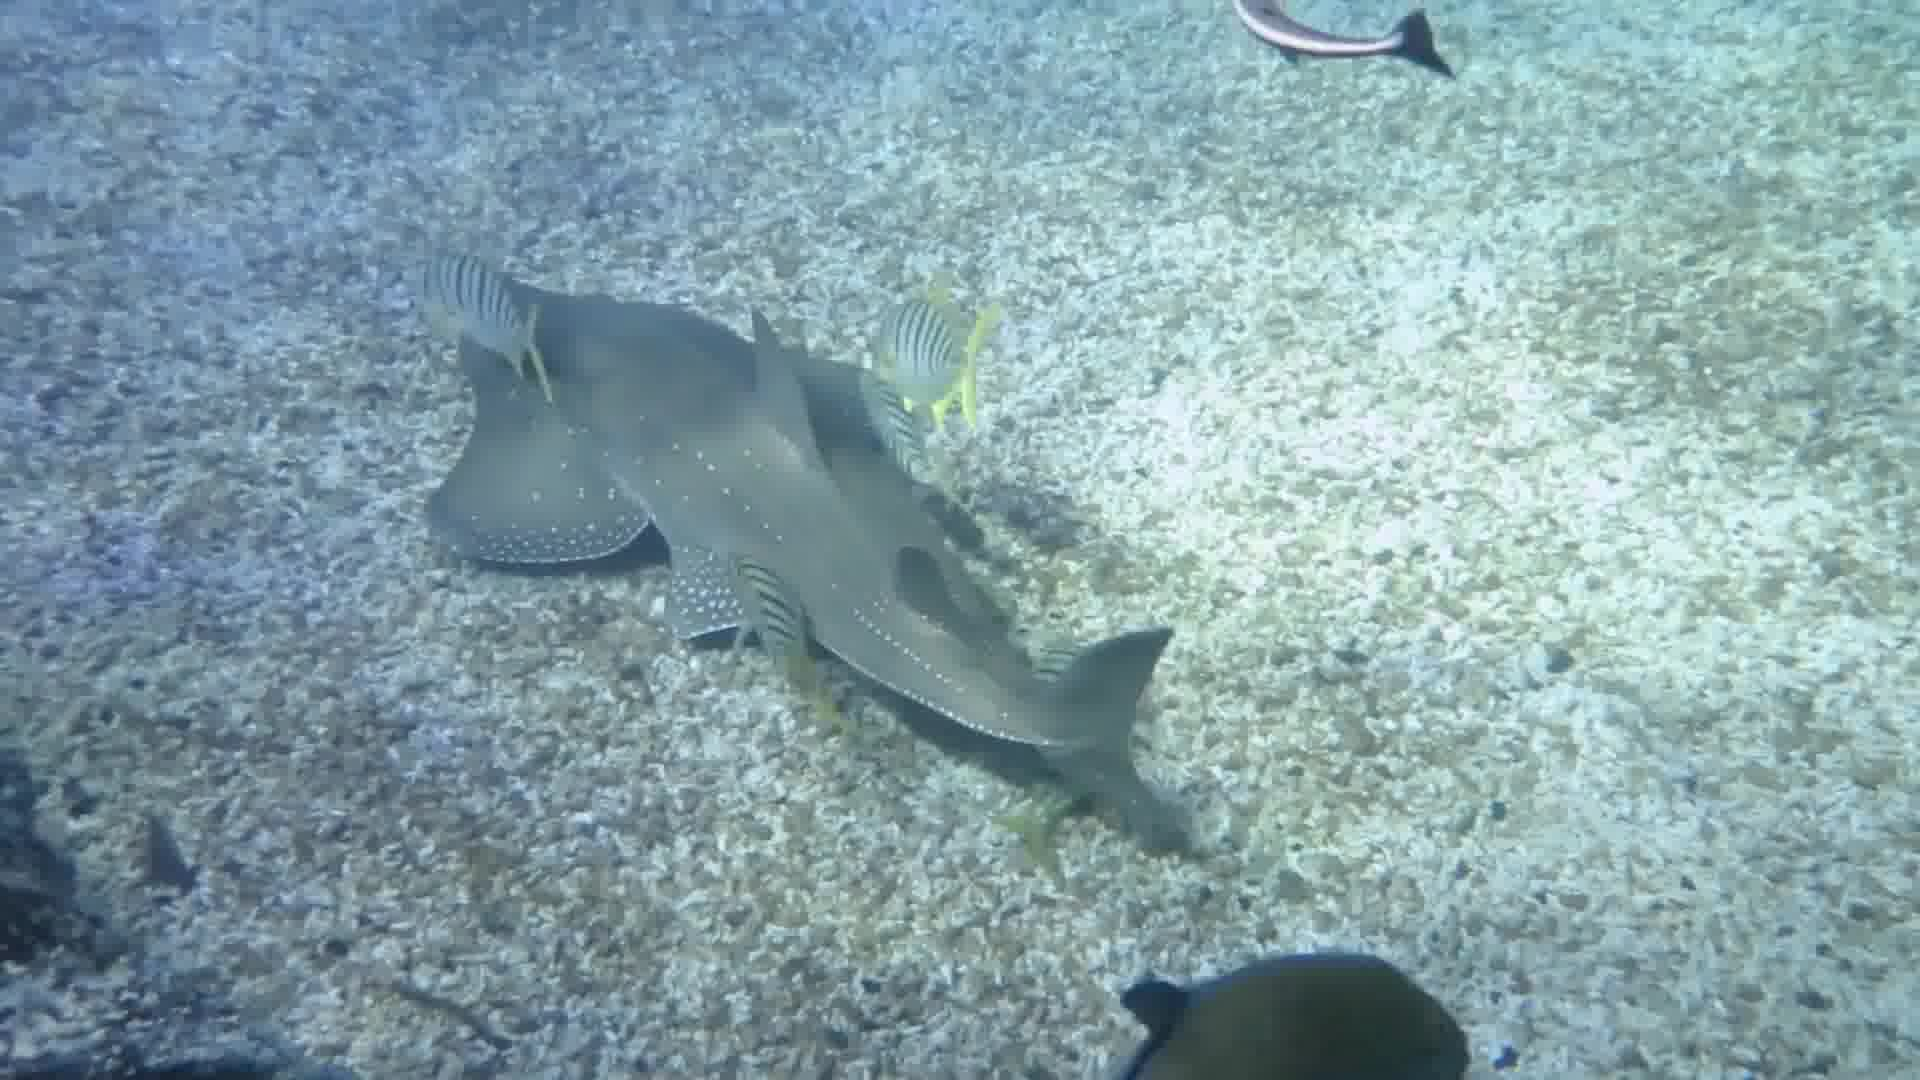Rhychobatus djiddensis: (323, 247, 1356, 810)
